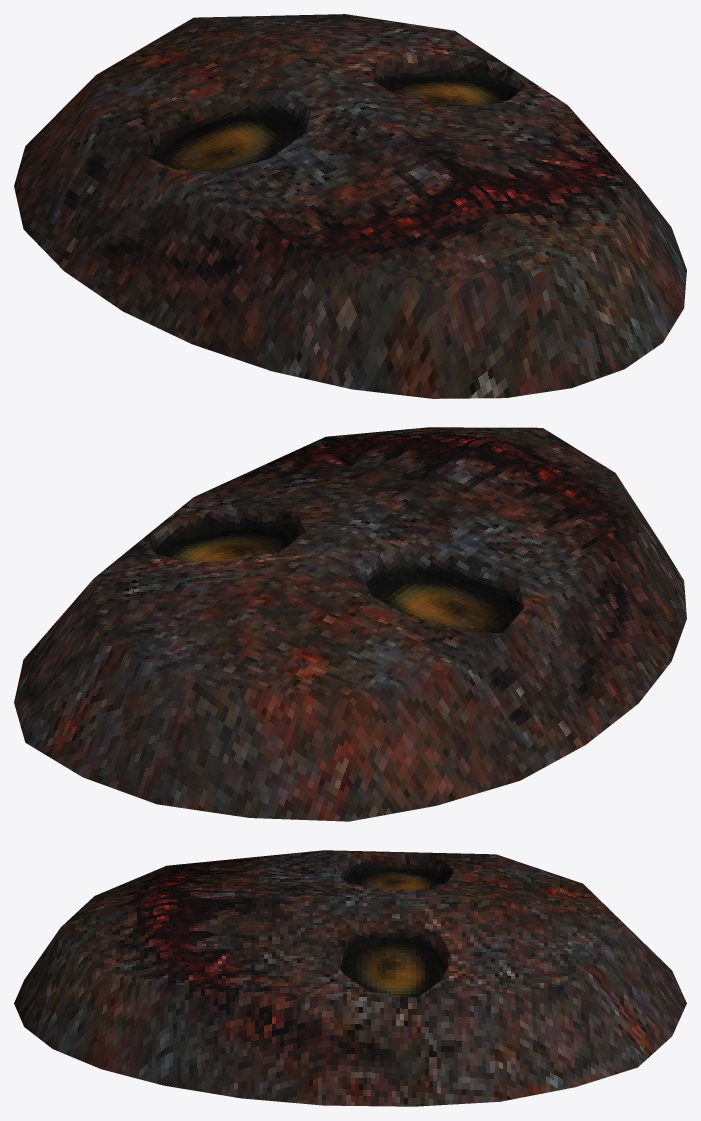
File: mask_mx_5_1.glb
3 renders of one model, top to bottom at view 1: azimuth 30°, elevation 25°; view 2: azimuth 150°, elevation 25°; view 3: azimuth 270°, elevation 25°, orthographic. The views are drawn at different scales.
Parts seen in each view (by area): view 1: mask_mx_5_1; view 2: mask_mx_5_1; view 3: mask_mx_5_1.
Part boxes in pixels (x1=…): mask_mx_5_1: x1=14, y1=14, x2=686, y2=398; mask_mx_5_1: x1=14, y1=427, x2=686, y2=821; mask_mx_5_1: x1=14, y1=850, x2=686, y2=1106.
Size of the model in its own units: 0.2322 by 0.0554 by 0.3198.
1 material, 1 textured.
